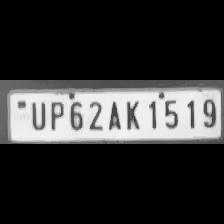1: (143, 97, 159, 130), (182, 96, 198, 128)
2: (84, 98, 104, 130)
5: (158, 96, 180, 130)
6: (64, 98, 84, 130)
9: (198, 96, 218, 128)
A: (104, 97, 122, 130)
K: (121, 97, 143, 131)
P: (46, 97, 64, 130)
U: (27, 98, 47, 130)
